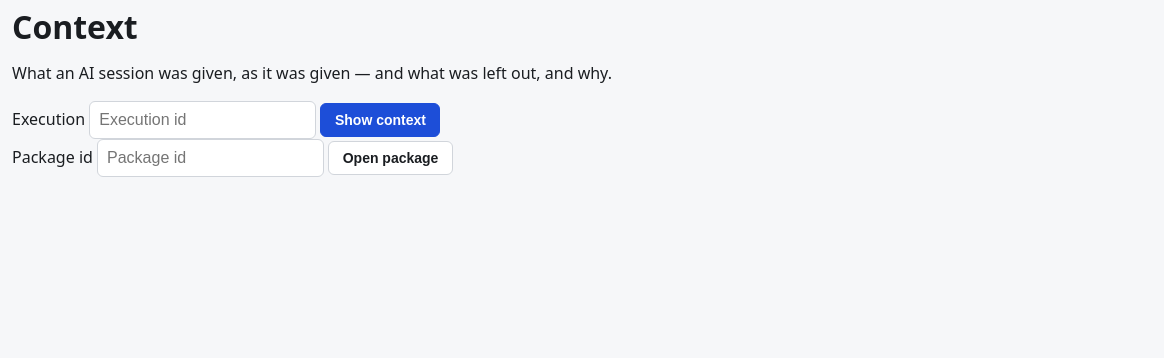
Test: T1268 · the Context screen › says so when an execution was given no package
The width and height of the screenshot is (1164, 358).
Type "ex_1" into the field labelled "Execution".
click(203, 120); type("ex_1")  # box [89,101,316,139]
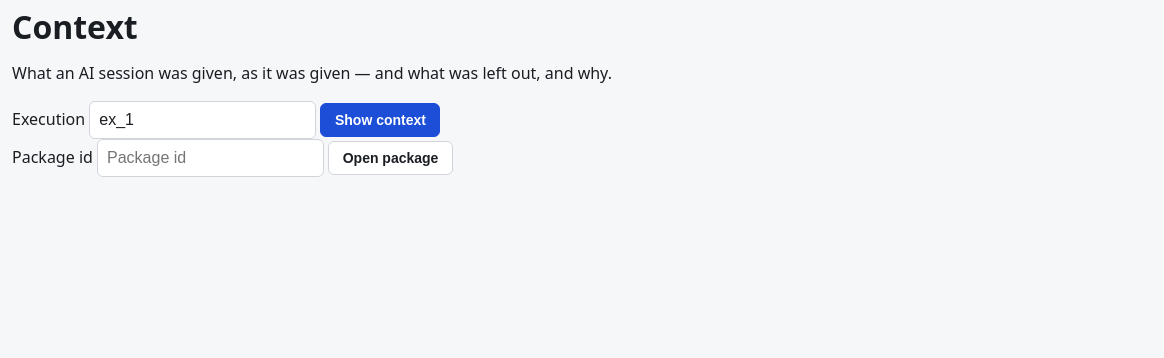
Click the button "Show context".
click(380, 120)  # box [320,103,440,137]
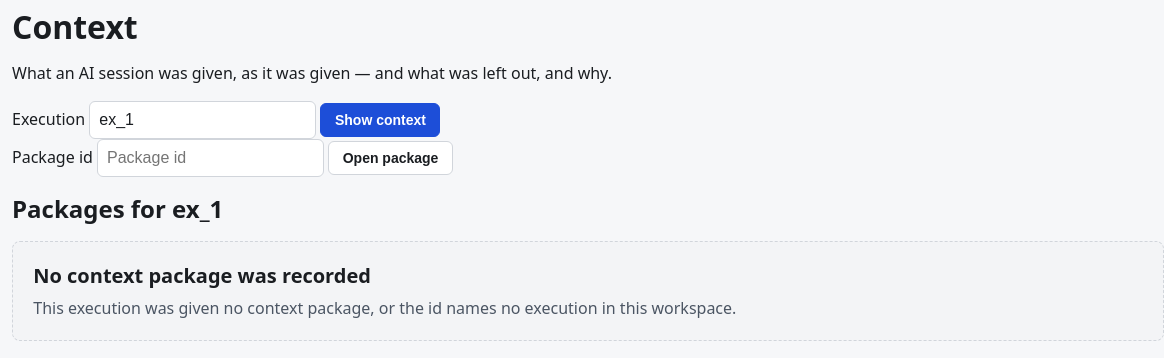
Expected: the heading "Packages for ex_1" is shown, [12,192,223,225]
Expected: the text "No context package was recorded" is shown, [33,262,371,290]
